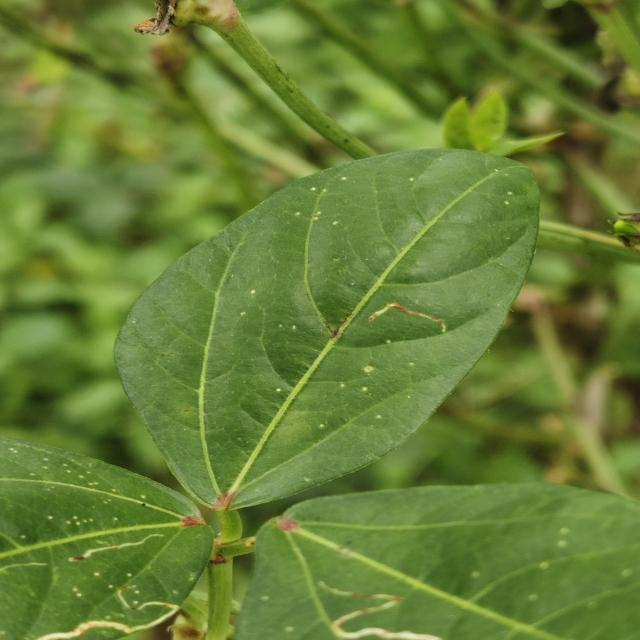sitaw-aphid-high: (115, 149, 539, 508), (236, 483, 640, 640), (2, 437, 214, 640)
